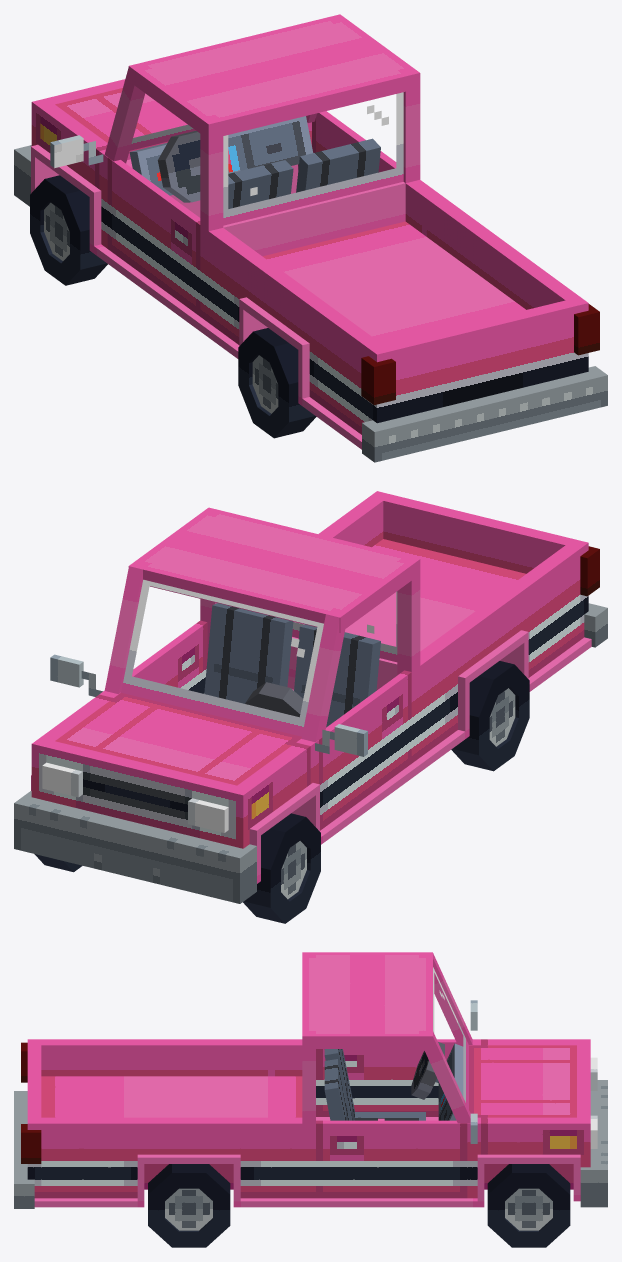
Rendered from pickup-pink.gltf.
3 renders of one model, top to bottom at view 1: azimuth 30°, elevation 25°; view 2: azimuth 150°, elevation 25°; view 3: azimuth 270°, elevation 25°, orthographic. The views are drawn at different scales.
Visible parts, largest first — view 1: cube (×37), tube (×2), cylinder (×3); view 2: cube (×37), tube (×2), cylinder (×3); view 3: cube (×37), tube (×2), cylinder (×3).
Part boxes in pixels (x1,y1,x2,y2): cube (×37): [14, 14, 607, 462]; tube (×2): [30, 175, 316, 438]; cylinder (×3): [44, 131, 278, 413]; cube (×37): [14, 491, 607, 903]; tube (×2): [243, 661, 529, 923]; cylinder (×3): [245, 682, 515, 899]; cube (×37): [14, 952, 607, 1208]; tube (×2): [148, 1164, 570, 1247]; cylinder (×3): [165, 1042, 552, 1230].
Bounding box in the file's own units: 2.69 × 2.06 × 5.41.
Materials: 2 (2 with a texture image).
